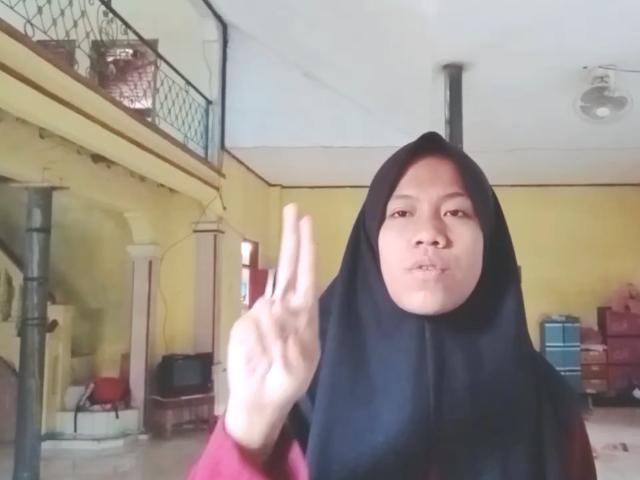U: (214, 199, 328, 421)
